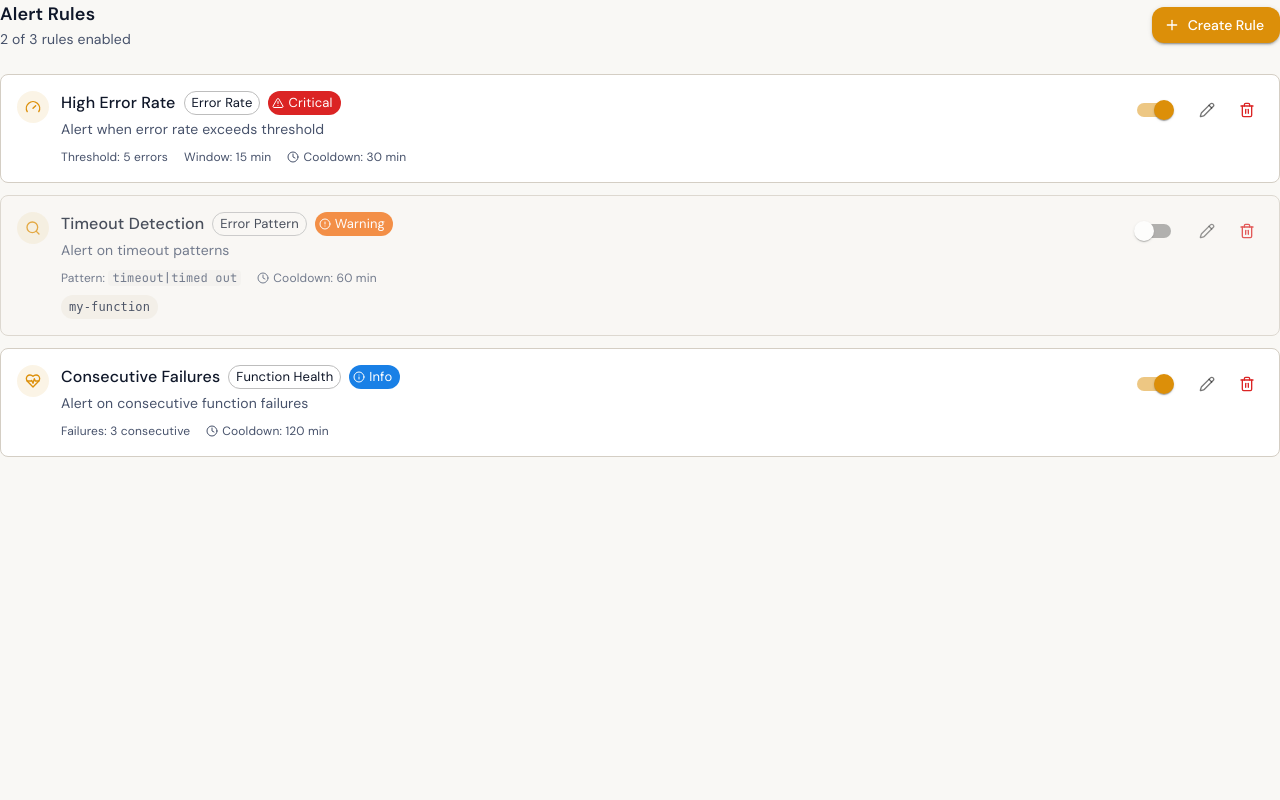
Test: AdminAlertRules › editing loads the rule › fills the form from the rule being edited
Click the button named "Edit High Error Rate": coordinates (1207, 110) [1191,94,1223,126]
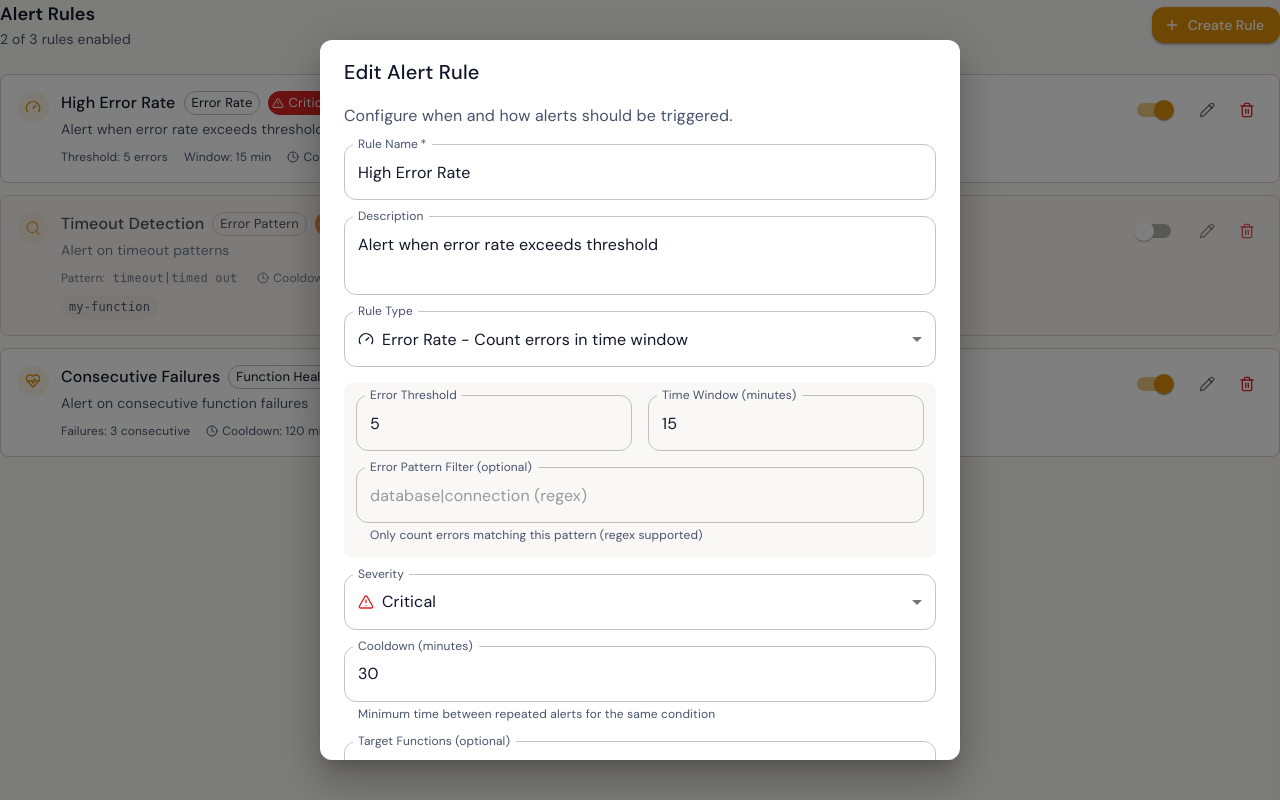
Expected: the field labelled "Rule Name *" holds "High Error Rate", [344,144,936,200]
Expected: the number field labelled "Cooldown (minutes)" holds "30", [344,646,936,702]
Expected: the number field labelled "Error Threshold" holds "5", [356,395,632,451]
